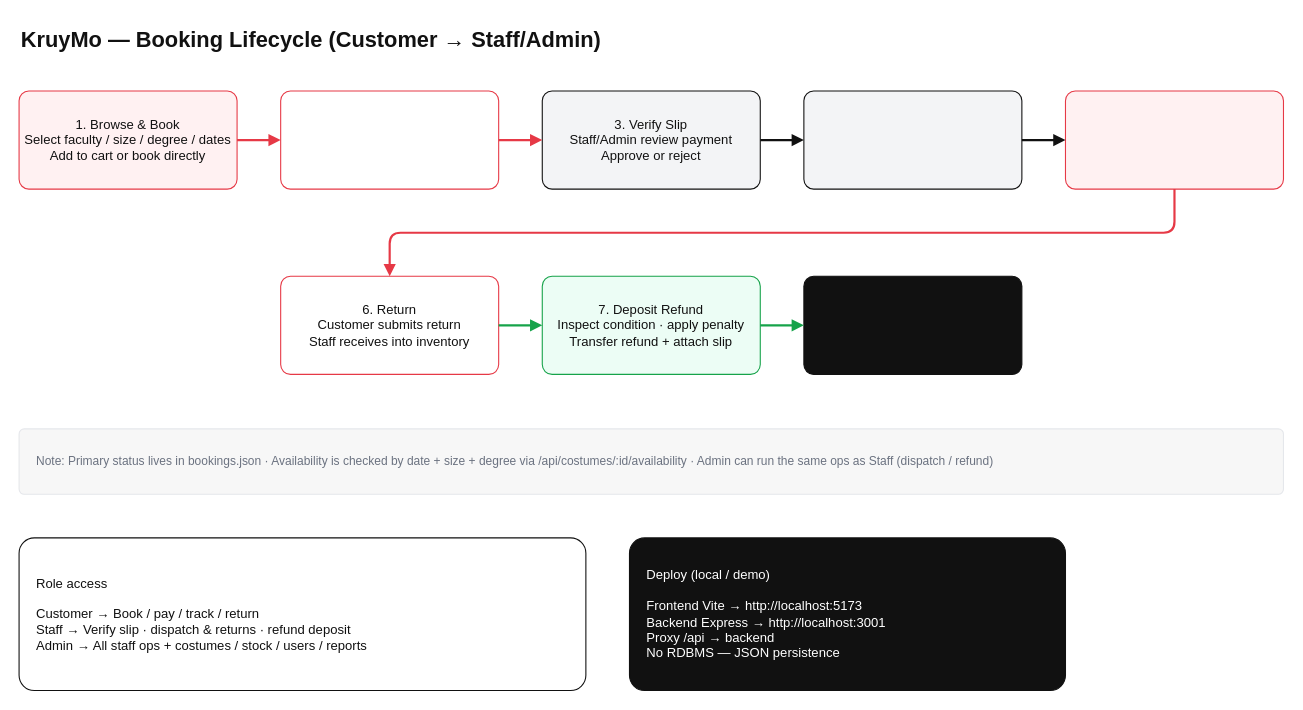
Some shapes in this 1303 by 710 pixel diagram are drawn without their labels. The box of each missing label's shape, as (x1, y1, x2, y2) in pixels:
2. Payment Scan PromptPay QR Upload slip + refund account: (280, 90, 499, 189)
4. Prepare & Ship Costume checklist Assign courier · out for delivery: (803, 90, 1022, 189)
5. Delivered Customer confirms receipt Use during rental period: (1064, 90, 1283, 189)
8. Closed deposit_refunded Rental cycle complete: (803, 275, 1022, 374)
